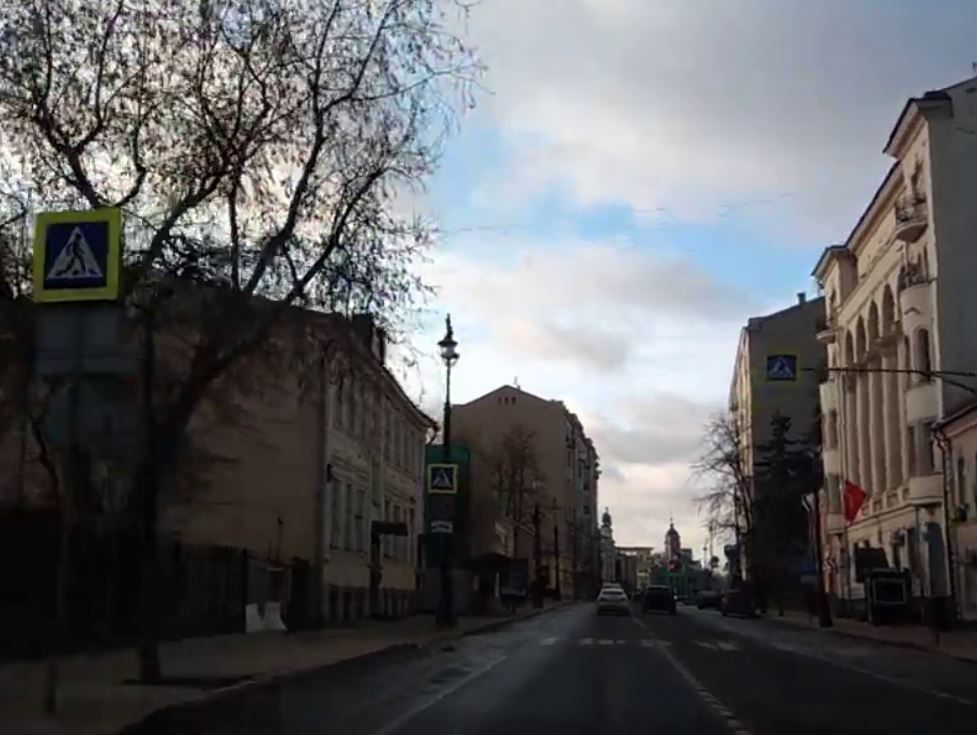Yaya Gecidi: (47, 221, 108, 289)
